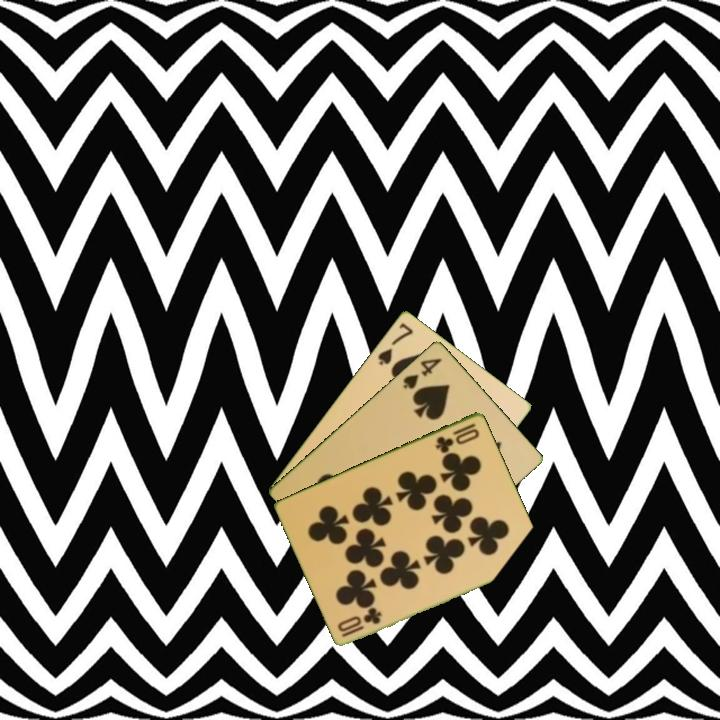10c: (432, 419, 482, 455), (334, 605, 385, 640)
4s: (399, 354, 445, 392)
7s: (374, 319, 416, 368)
